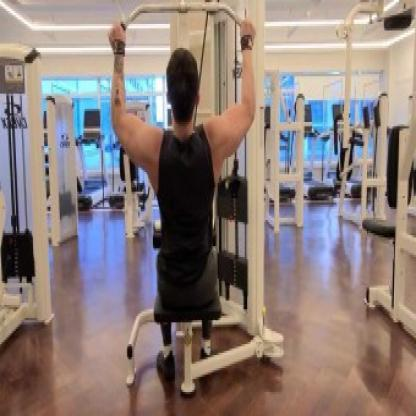Lat Pull Down: (100, 0, 296, 400)
